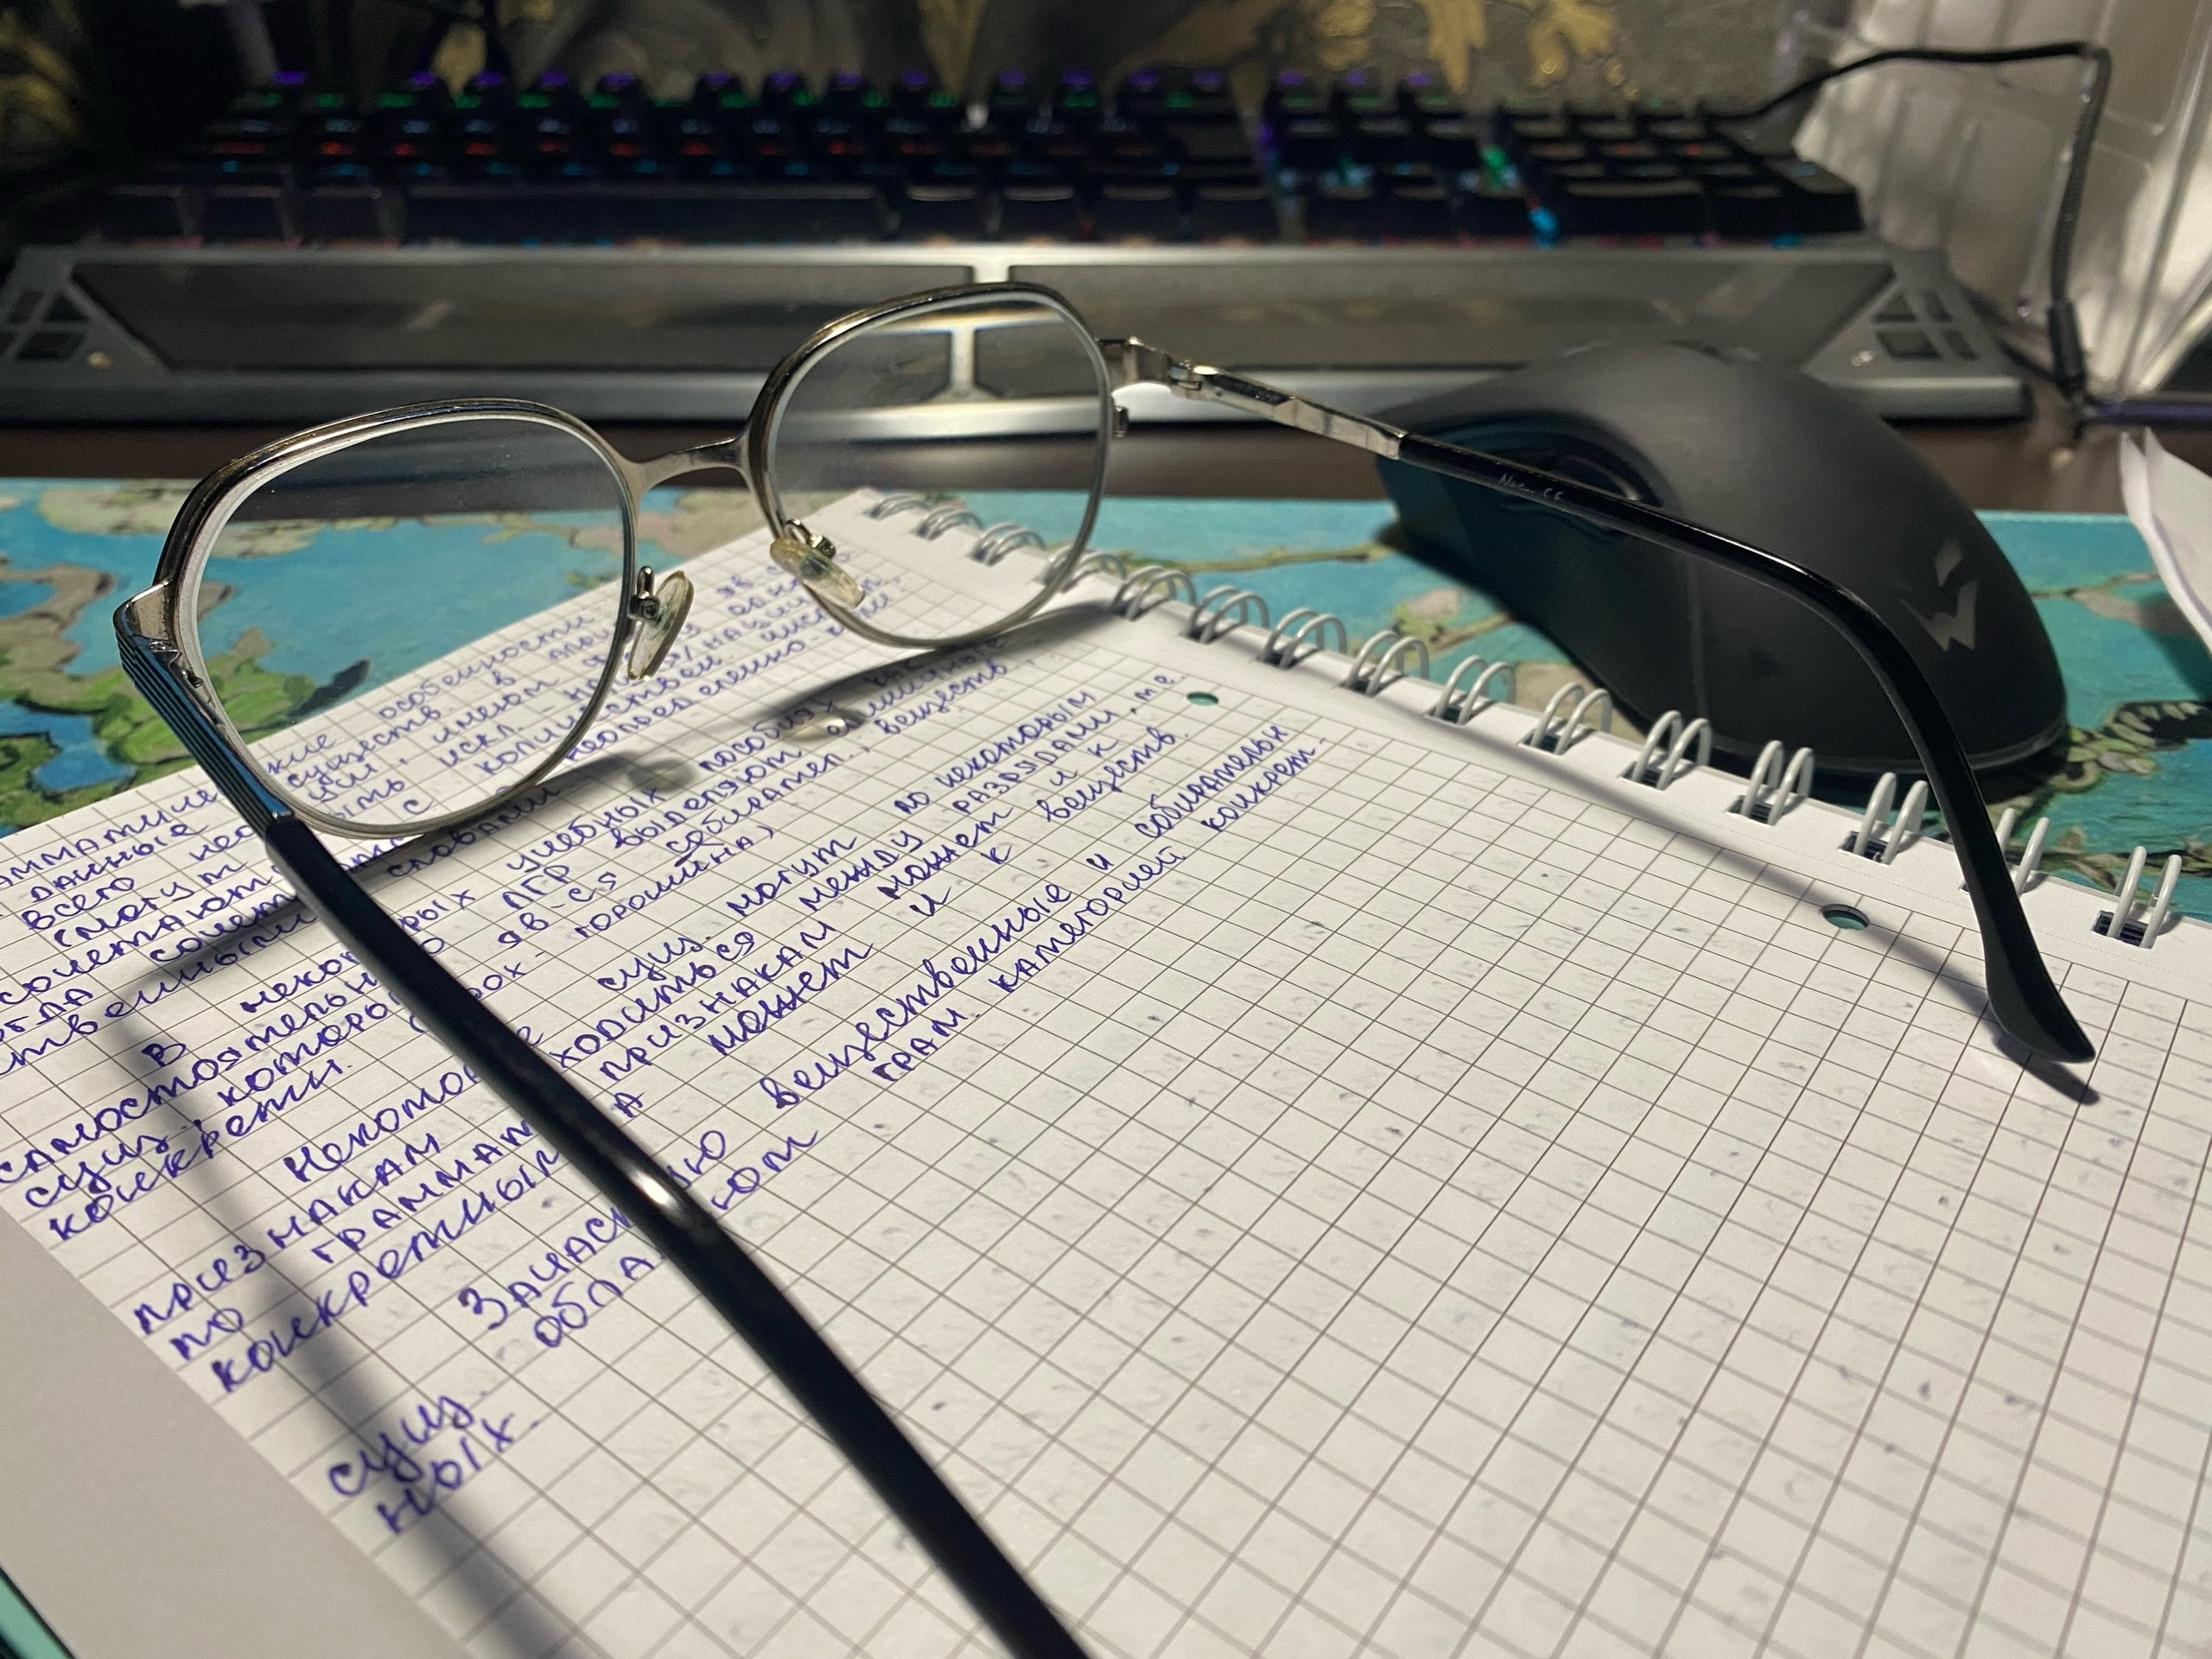glasses: (115, 284, 2090, 1656)
